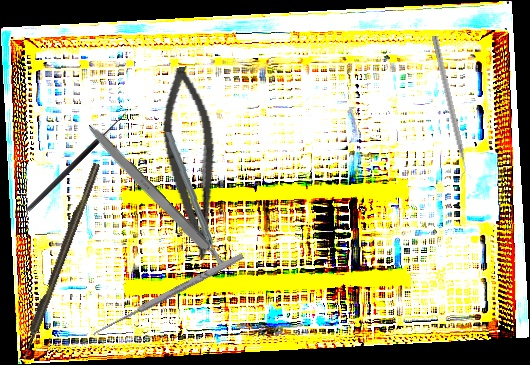Chopper: (159, 132, 235, 267), (423, 35, 471, 181)
Hook Surgical: (17, 162, 103, 361), (90, 250, 249, 345), (20, 104, 130, 213)
Micro Scissor: (152, 63, 235, 263)
Scalpel Handle: (83, 121, 228, 272)
